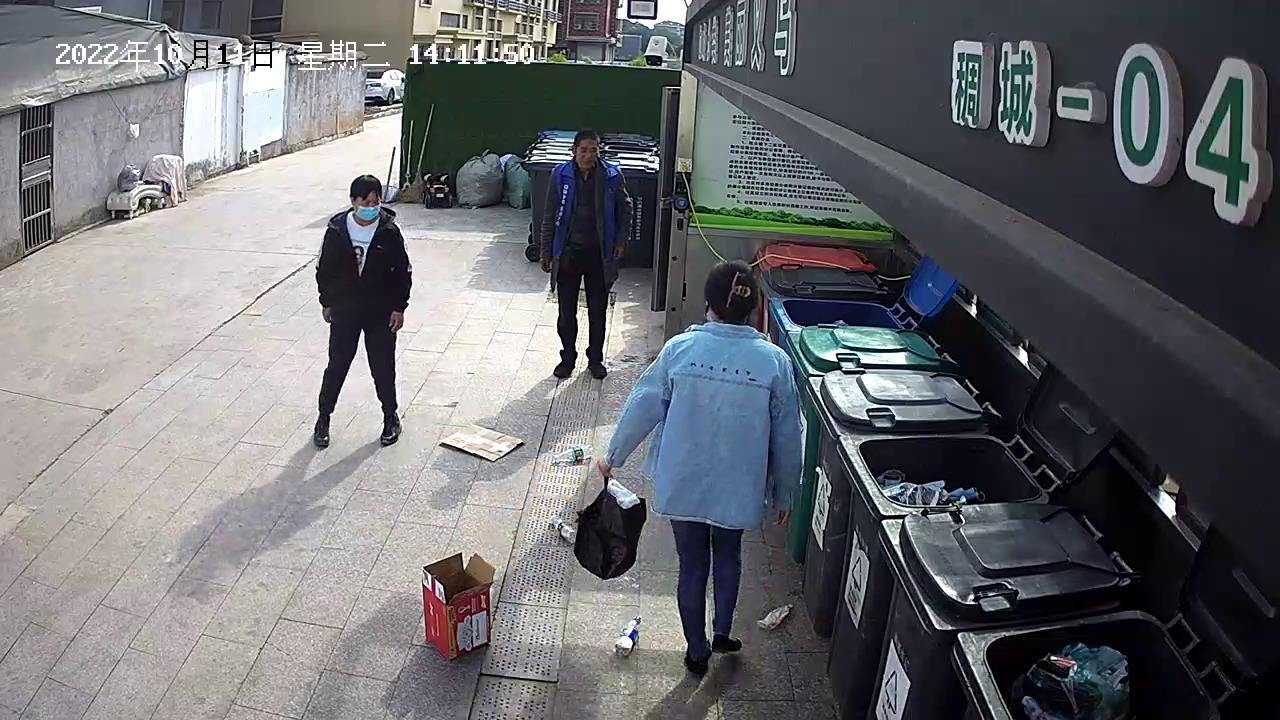garbage-bag: (571, 472, 650, 580)
person: (310, 171, 414, 449)
suliaozhipin: (610, 614, 646, 658), (754, 601, 796, 634), (547, 441, 599, 466), (546, 510, 577, 545)
worker: (596, 257, 805, 686), (536, 128, 636, 377)
zhizhipin: (419, 549, 496, 666), (436, 420, 525, 464)
